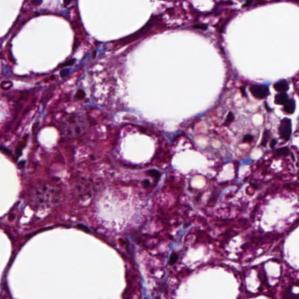inflammation: (242, 81, 299, 119), (136, 163, 168, 195)
